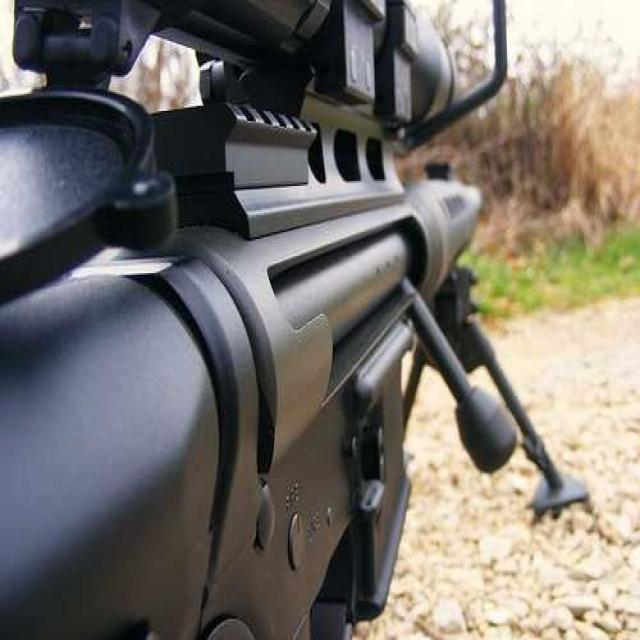heavyweapon: (1, 2, 519, 640)
